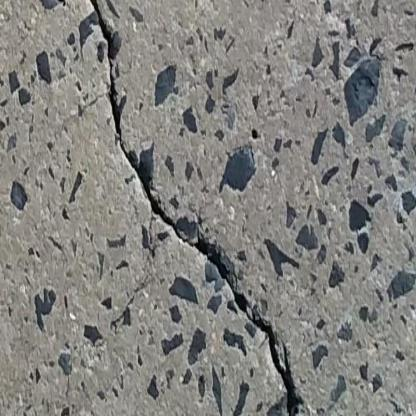Cracks: (42, 0, 307, 416)
